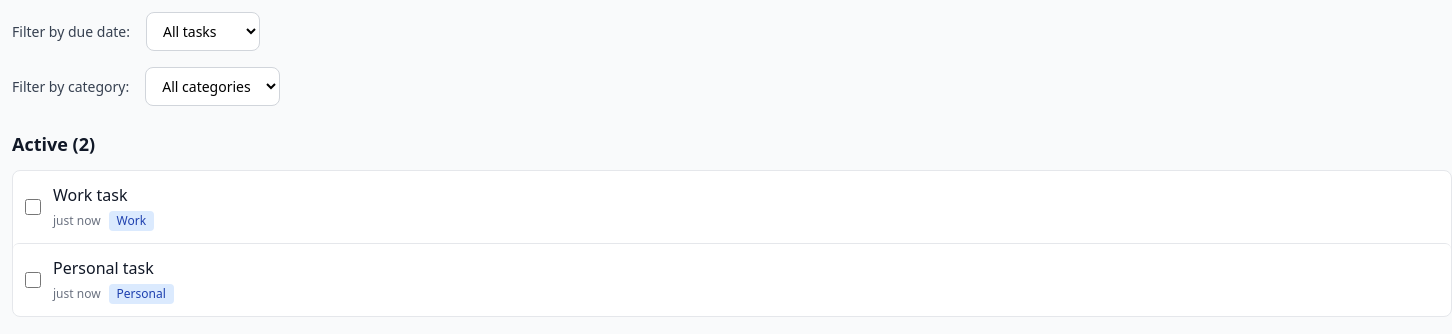
Scenario: TaskList › should_filter_by_category
Select "Work" in the dropdown labelled "Filter by category:" at x=213, y=86, box [145,67,280,106]
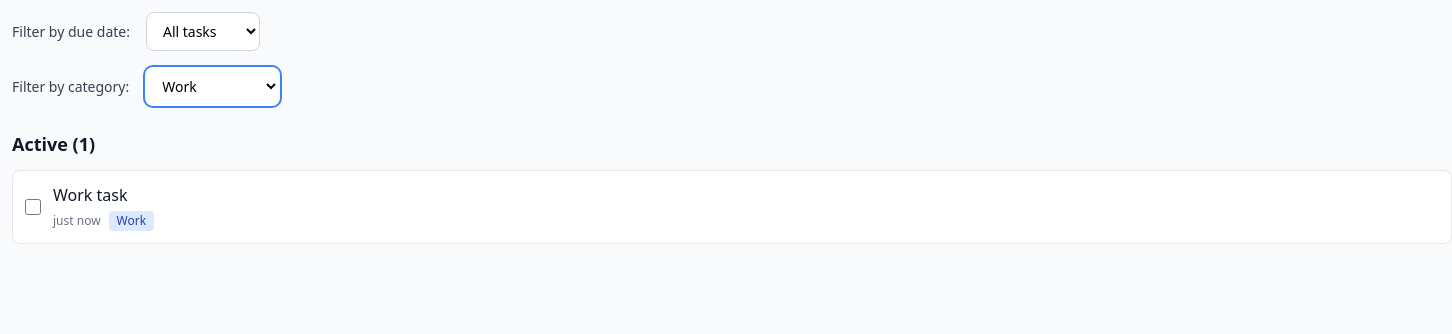
Expected: the text "Work task" is shown, [53,184,128,206]
Now the text "Personal task" is gone
